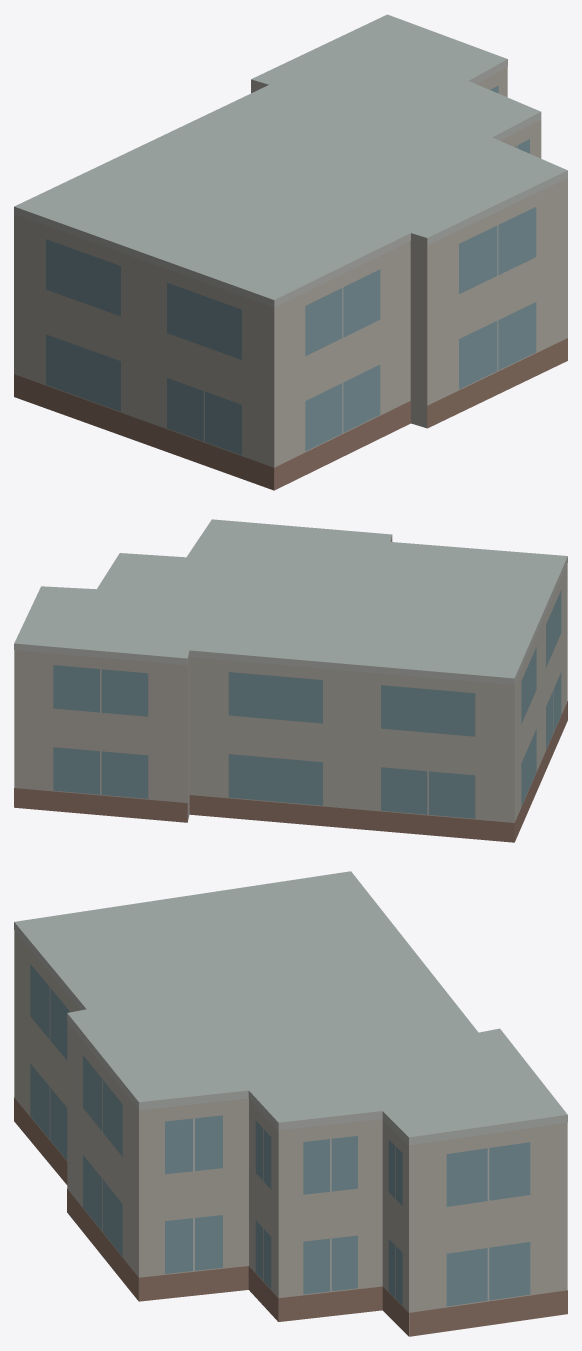
File: survey-upis-32999948.glb
3 renders of one model, top to bottom at view 1: azimuth 30°, elevation 25°; view 2: azimuth 150°, elevation 25°; view 3: azimuth 270°, elevation 25°, orthographic. The views are drawn at different scales.
Parts seen in each view (by area): view 1: survey-upis-32999948.tmp; view 2: survey-upis-32999948.tmp; view 3: survey-upis-32999948.tmp.
Part boxes in pixels (x1,y1,x2,y2): survey-upis-32999948.tmp: [14, 14, 567, 490]; survey-upis-32999948.tmp: [14, 519, 567, 842]; survey-upis-32999948.tmp: [14, 871, 567, 1336].
Size of the model in its own units: 17.49 by 6.1 by 15.37.
